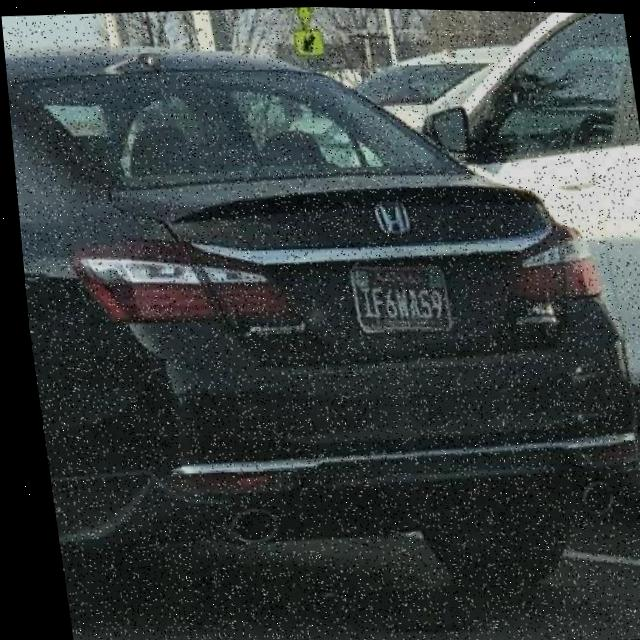LicensePlate: (343, 264, 447, 328)
